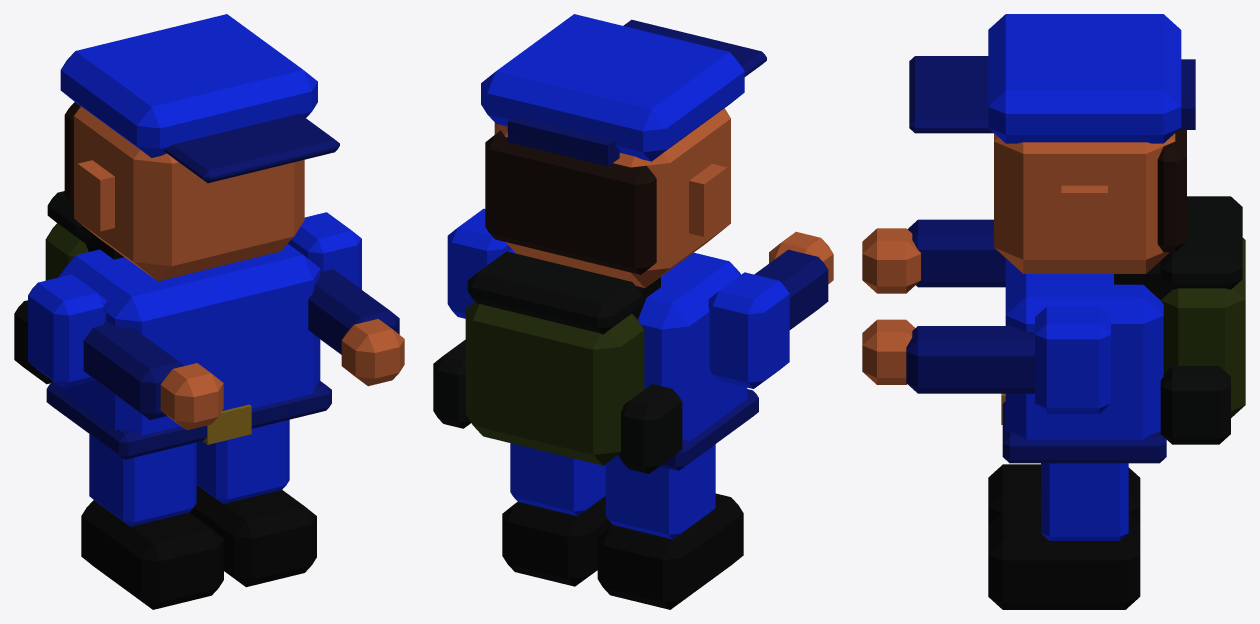
The model's file is soldier_cap.glb.
The picture shows the model from 3 angles, left to right: view 1: azimuth 30°, elevation 25°; view 2: azimuth 150°, elevation 25°; view 3: azimuth 270°, elevation 25°; orthographic projection. The views are drawn at different scales.
Parts seen in each view (by area): view 1: soldier_cap; view 2: soldier_cap; view 3: soldier_cap.
Part boxes in pixels (box(x1,y1,x2,y2)): soldier_cap: box(14, 14, 404, 609); soldier_cap: box(433, 14, 833, 609); soldier_cap: box(862, 14, 1245, 609).
Bounding box in the file's own units: 0.63 × 0.98 × 0.655.
